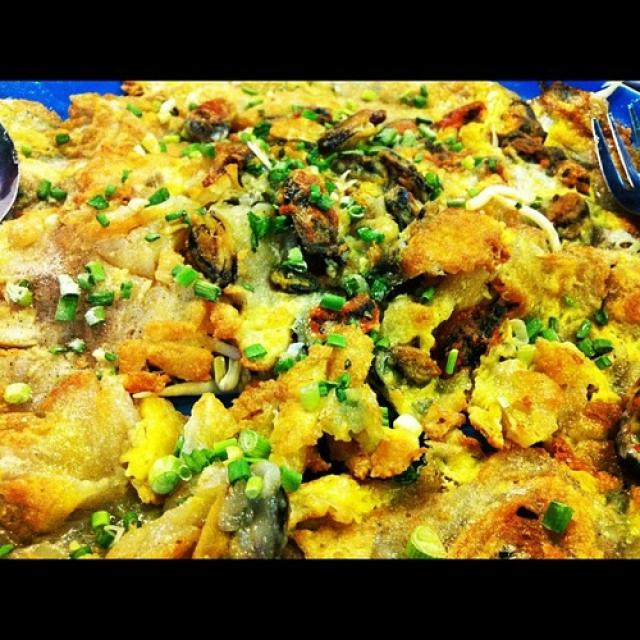炸货点心: (19, 74, 621, 572)
蛋糕甜品: (19, 74, 621, 572)
